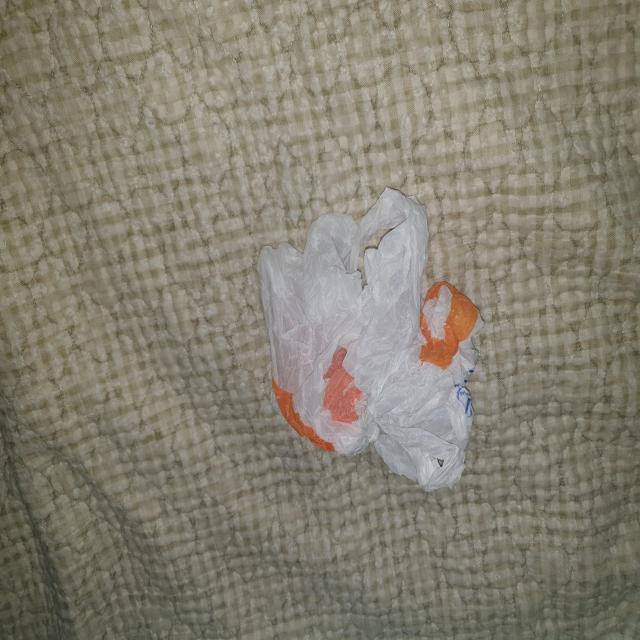plastic bag: (258, 189, 482, 496)
